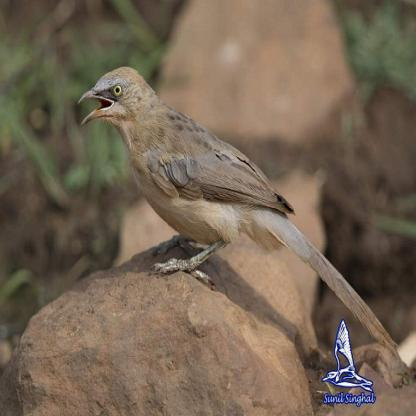Burung: (77, 66, 397, 356)
